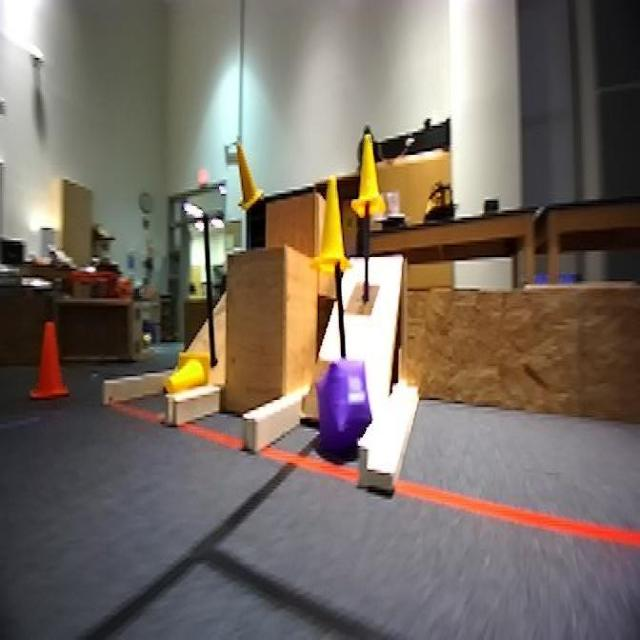frc_cone: (316, 175, 352, 271), (355, 141, 387, 216), (168, 349, 212, 397), (237, 153, 262, 215)
frc_cube: (306, 359, 364, 446)
